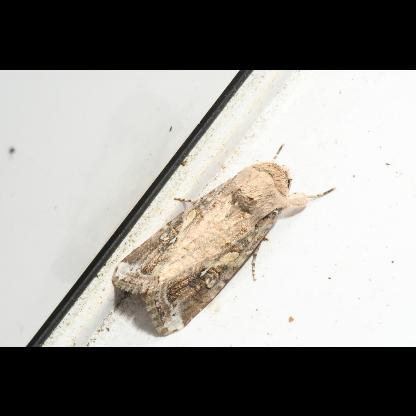Fall Armyworm Moth: (109, 140, 337, 338)
